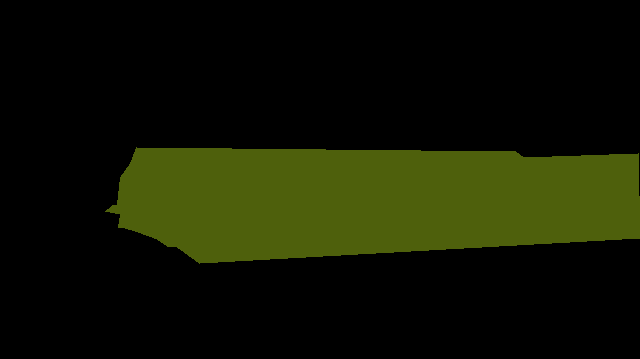Train: (105, 147, 640, 263)
